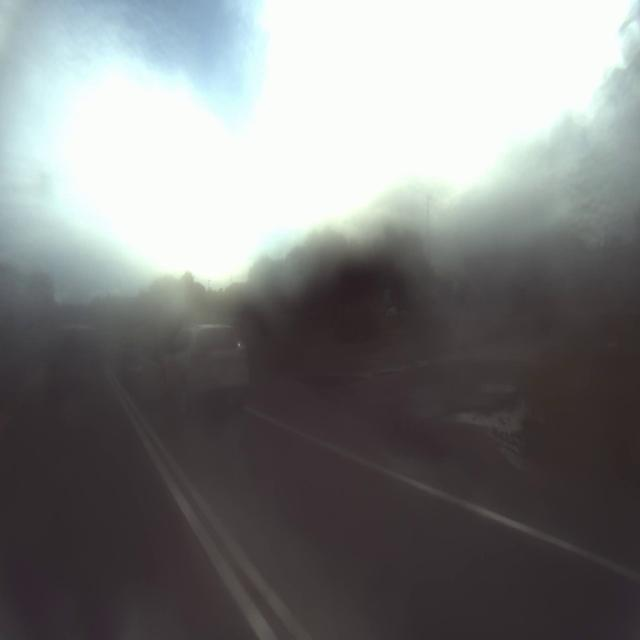car: (151, 307, 254, 422)
